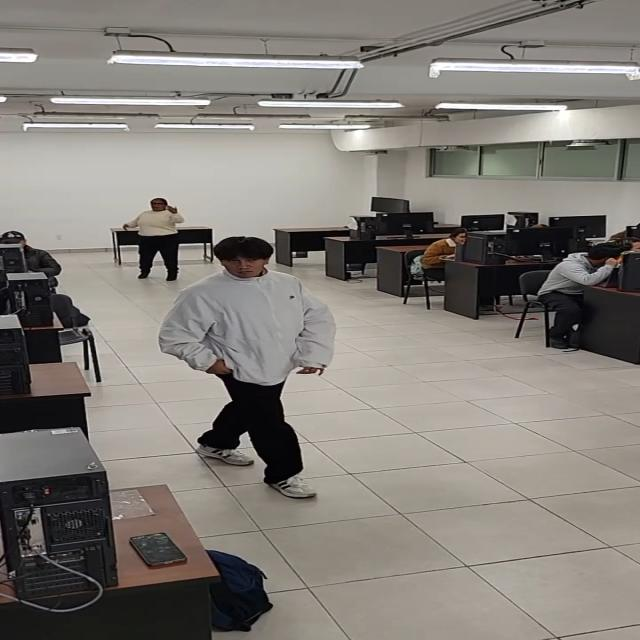Persona: (158, 235, 338, 501), (123, 197, 186, 281)
